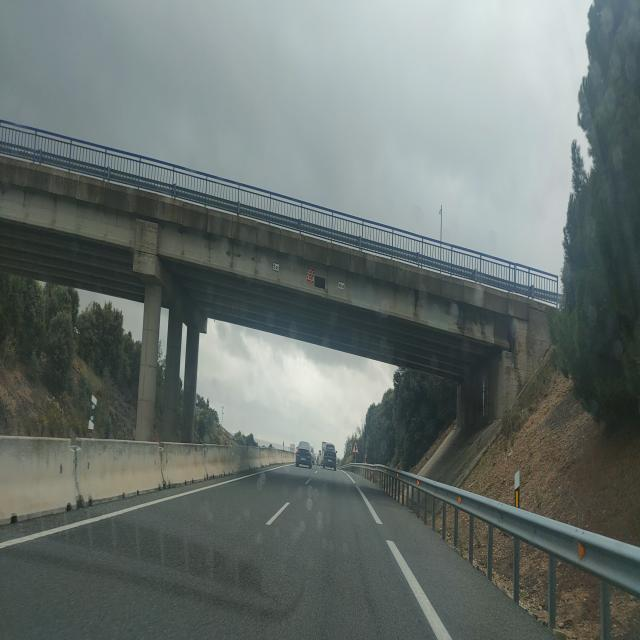Poth-hole: (354, 554, 377, 629)
